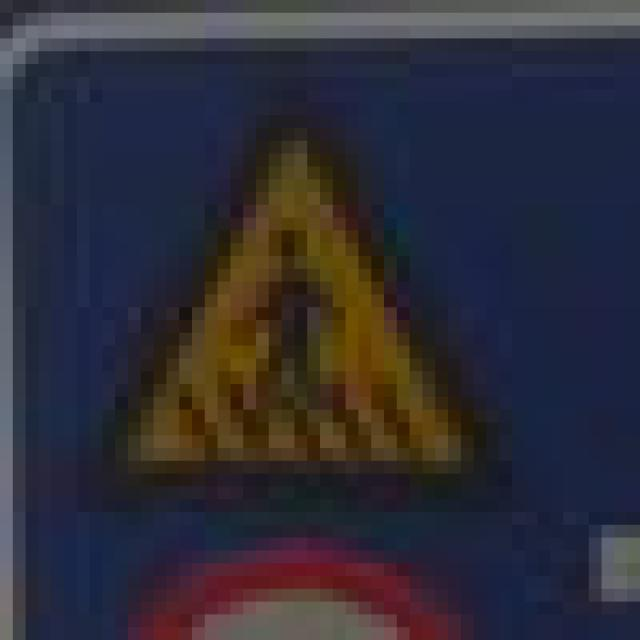pass_either_side: (90, 102, 460, 461)
